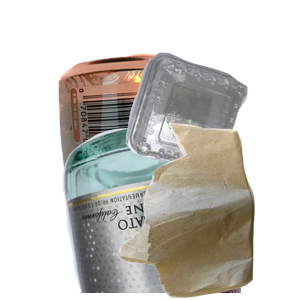glass: (60, 120, 300, 300)
metal: (56, 52, 242, 232)
plastic: (123, 50, 300, 214)
trash: (114, 121, 300, 300)
